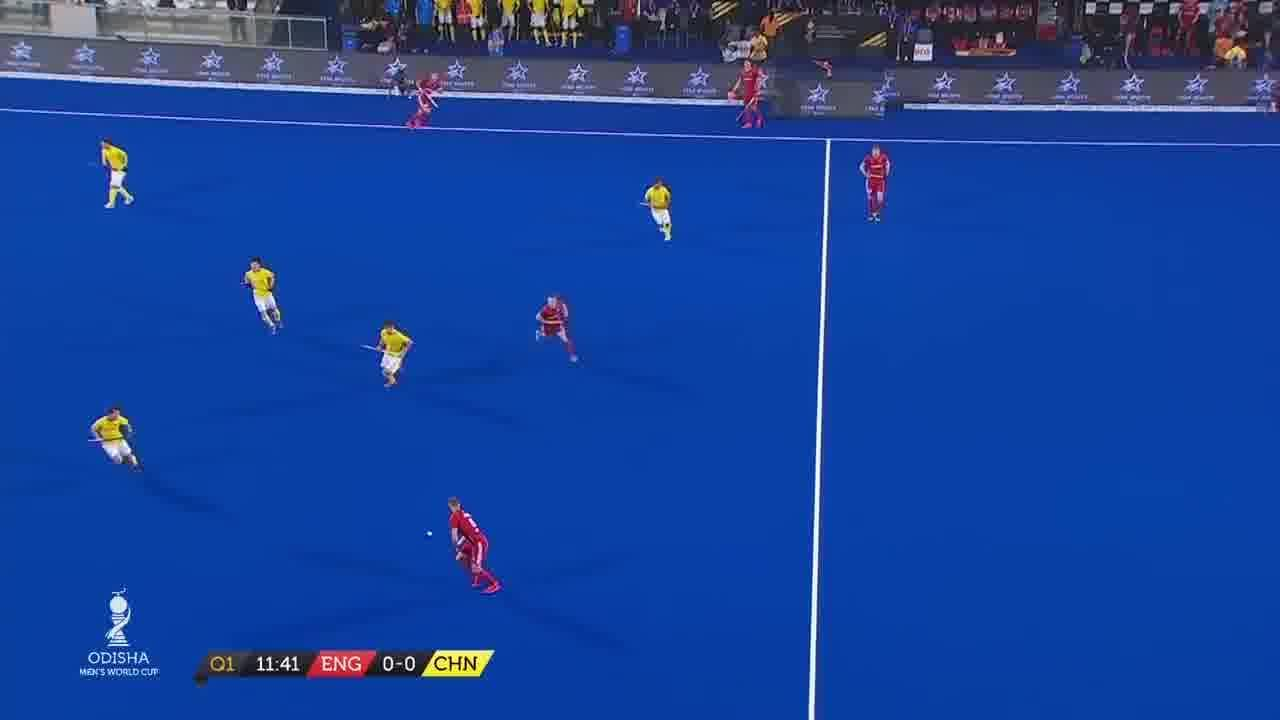ball: (424, 529, 434, 538)
